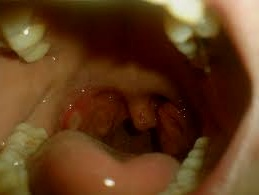Ulcer: (65, 106, 84, 133)
